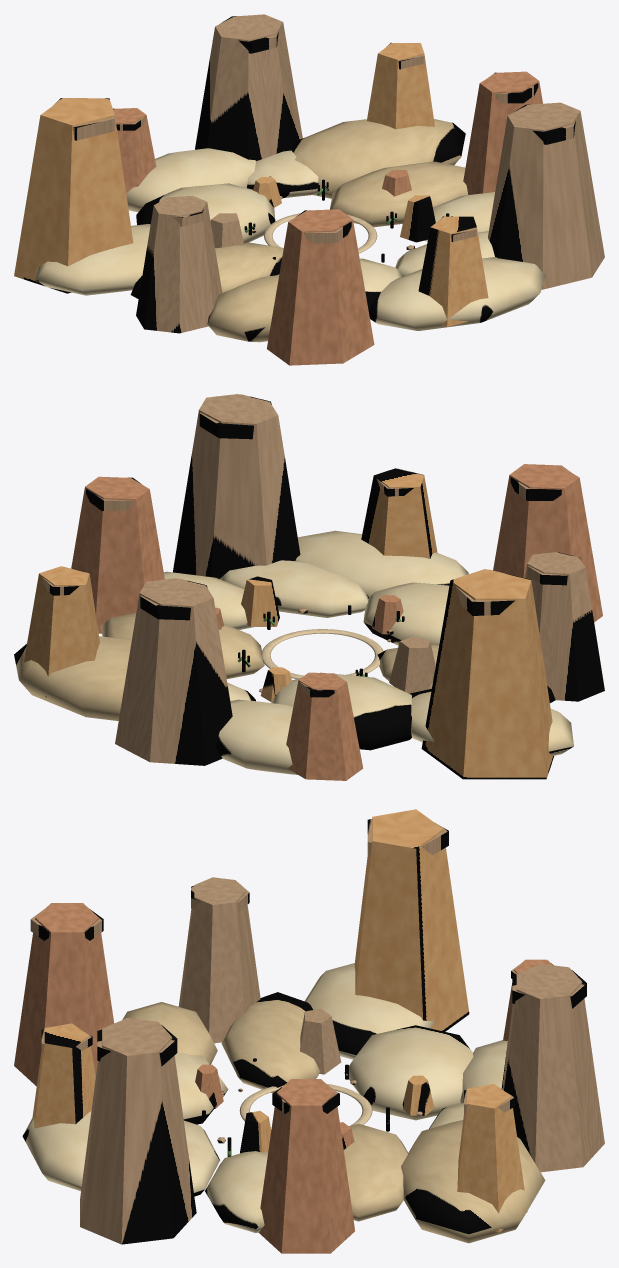
File: Environment_Desert.glb
3 renders of one model, top to bottom at view 1: azimuth 30°, elevation 25°; view 2: azimuth 150°, elevation 25°; view 3: azimuth 270°, elevation 25°, orthographic. The views are drawn at different scales.
Visible parts, largest first — view 1: Mesa_8, Mesa_4, Mesa_6, Mesa_2, Mesa_5, Dune_6, Dune_10, Mesa_7, Dune_0, Mesa_0, Mesa_1, Dune_7 (+19 smaller); view 2: Mesa_4, Mesa_8, Mesa_2, Mesa_0, Mesa_6, Mesa_5, Mesa_3, Mesa_1, Dune_10, Dune_6, Mesa_7, Dune_5 (+17 smaller); view 3: Mesa_8, Mesa_4, Mesa_2, Mesa_0, Mesa_6, Mesa_5, Dune_6, Dune_2, Dune_3, Mesa_1, Mesa_7, Dune_8 (+13 smaller).
Part boxes in pixels (x1,y1,x2,y2): Mesa_8: (488,102,604,289); Mesa_4: (14,98,133,293); Mesa_6: (267,209,374,365); Mesa_2: (195,14,302,160); Mesa_5: (136,195,222,333); Dune_6: (291,119,465,198); Dune_10: (368,257,545,330); Mesa_7: (418,216,488,326); Dune_0: (330,161,468,227); Mesa_0: (463,71,542,194); Mesa_1: (367,43,434,129); Dune_7: (126,148,256,212); Mesa_4: (421,569,553,779); Mesa_8: (173,394,300,578); Mesa_2: (115,578,232,765); Mesa_0: (71,476,164,633); Mesa_6: (493,464,602,622); Mesa_5: (525,552,604,701); Mesa_3: (286,672,363,780); Mesa_1: (24,566,99,697); Dune_10: (295,530,468,597); Dune_6: (14,636,131,720); Mesa_7: (361,468,437,558); Dune_5: (220,560,368,617); Mesa_8: (80,1018,196,1244); Mesa_4: (354,809,469,1031); Mesa_2: (501,964,604,1172); Mesa_0: (258,1079,354,1253); Mesa_6: (14,903,114,1086); Mesa_5: (178,877,260,1043); Dune_6: (401,1120,545,1243); Dune_2: (344,1025,473,1120); Dune_3: (221,992,320,1093); Mesa_1: (457,1084,527,1232); Mesa_7: (32,1023,95,1128); Dune_8: (304,963,434,1059).
Size of what is drawn, in the model's own units: 129 by 43.5 by 116.
8 materials, 8 textured.
